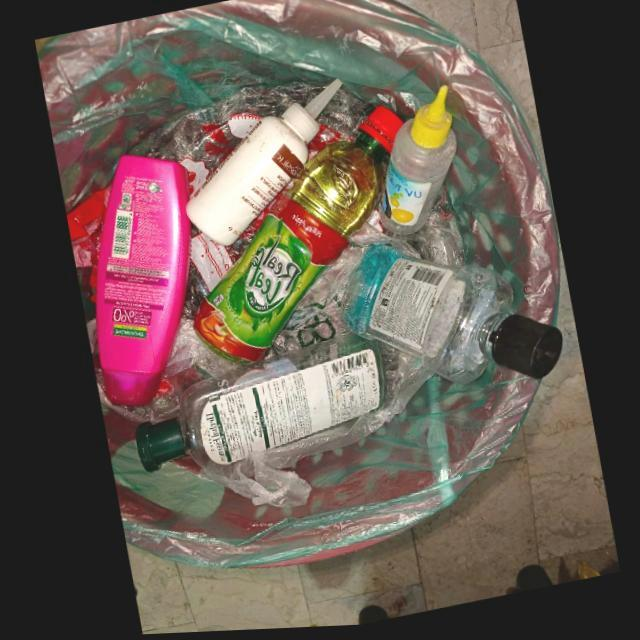plastic_bottle: (189, 108, 402, 367), (133, 340, 384, 473), (339, 247, 561, 388), (185, 82, 344, 249), (93, 155, 190, 407), (373, 86, 456, 244)
